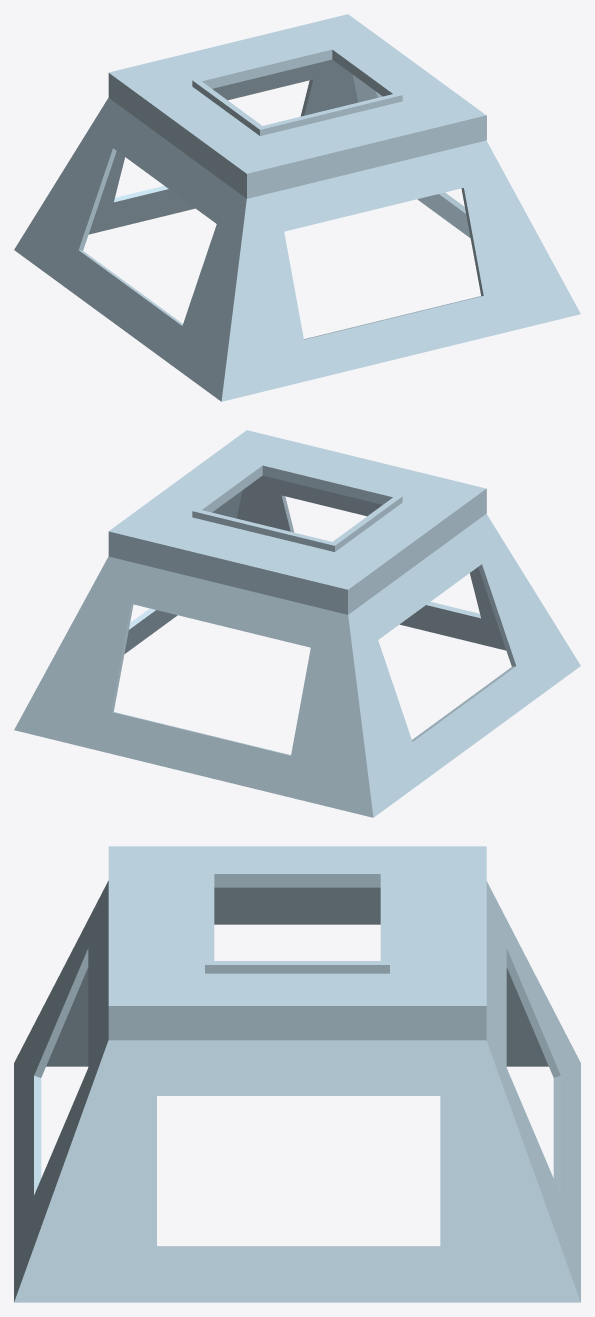
The model's file is Part_Studio_frontièra.gltf.
The picture shows the model from 3 angles, top to bottom: view 1: azimuth 30°, elevation 25°; view 2: azimuth 150°, elevation 25°; view 3: azimuth 270°, elevation 25°; orthographic projection. The views are drawn at different scales.
Parts seen in each view (by area): view 1: mesh10_mesh_38, mesh10_mesh_26, mesh10_mesh_4, mesh10_mesh_20, mesh10_mesh_1, mesh10_mesh_2, mesh10_mesh_9, mesh10_mesh_11, mesh10_mesh_33, mesh10_mesh_7, mesh10_mesh_12, mesh10_mesh_29; view 2: mesh10_mesh_19, mesh10_mesh_26, mesh10_mesh_4, mesh10_mesh_39, mesh10_mesh_3, mesh10_mesh_2, mesh10_mesh_9, mesh10_mesh_13, mesh10_mesh_33, mesh10_mesh_5, mesh10_mesh_12, mesh10_mesh_31; view 3: mesh10_mesh_32, mesh10_mesh_4, mesh10_mesh, mesh10_mesh_38, mesh10_mesh_19, mesh10_mesh_27, mesh10_mesh_9, mesh10_mesh_10, mesh10_mesh_8, mesh10_mesh_25, mesh10_mesh_41, mesh10_mesh_24 (+1 smaller).
Boxes of the visible parts, x1,y1,x2,y2 form: mesh10_mesh_38: [221, 140, 580, 401]; mesh10_mesh_26: [14, 98, 246, 401]; mesh10_mesh_4: [109, 14, 485, 173]; mesh10_mesh_20: [88, 59, 358, 234]; mesh10_mesh_1: [247, 115, 486, 198]; mesh10_mesh_2: [108, 73, 246, 198]; mesh10_mesh_9: [193, 45, 402, 129]; mesh10_mesh_11: [202, 49, 332, 88]; mesh10_mesh_33: [352, 75, 470, 237]; mesh10_mesh_7: [260, 95, 402, 135]; mesh10_mesh_12: [332, 50, 392, 96]; mesh10_mesh_29: [79, 148, 116, 250]; mesh10_mesh_19: [14, 556, 373, 817]; mesh10_mesh_26: [348, 514, 580, 817]; mesh10_mesh_4: [109, 430, 485, 589]; mesh10_mesh_39: [236, 475, 506, 650]; mesh10_mesh_3: [108, 531, 347, 614]; mesh10_mesh_2: [348, 489, 486, 614]; mesh10_mesh_9: [192, 461, 401, 545]; mesh10_mesh_13: [262, 465, 392, 504]; mesh10_mesh_33: [124, 491, 242, 653]; mesh10_mesh_5: [192, 511, 334, 551]; mesh10_mesh_12: [202, 466, 262, 512]; mesh10_mesh_31: [478, 564, 515, 666]; mesh10_mesh_32: [14, 1040, 580, 1302]; mesh10_mesh_4: [108, 846, 486, 1005]; mesh10_mesh: [108, 1006, 486, 1040]; mesh10_mesh_38: [14, 880, 108, 1301]; mesh10_mesh_19: [486, 881, 580, 1301]; mesh10_mesh_27: [46, 887, 548, 1066]; mesh10_mesh_9: [205, 870, 389, 964]; mesh10_mesh_10: [214, 874, 380, 887]; mesh10_mesh_8: [205, 965, 389, 973]; mesh10_mesh_25: [506, 948, 560, 1077]; mesh10_mesh_41: [34, 948, 88, 1077]; mesh10_mesh_24: [553, 1075, 560, 1194].
Bounding box in the file's own units: 0.3 × 0.155 × 0.3.
